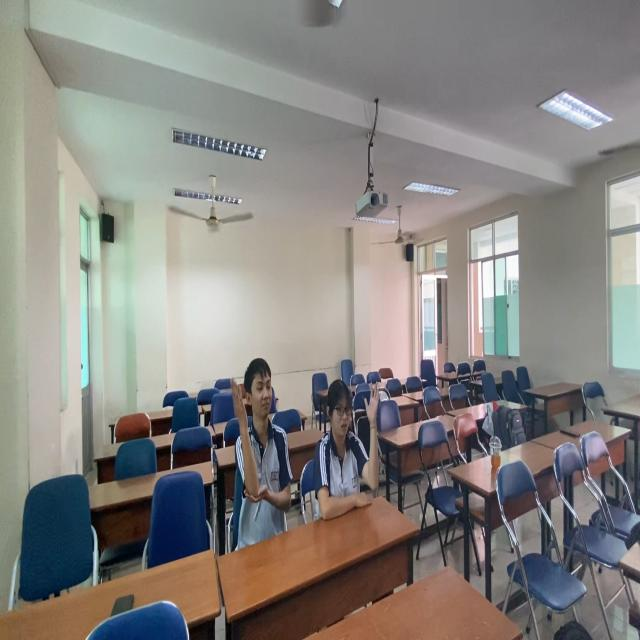raise_hand: (227, 351, 295, 549), (313, 364, 383, 523)
